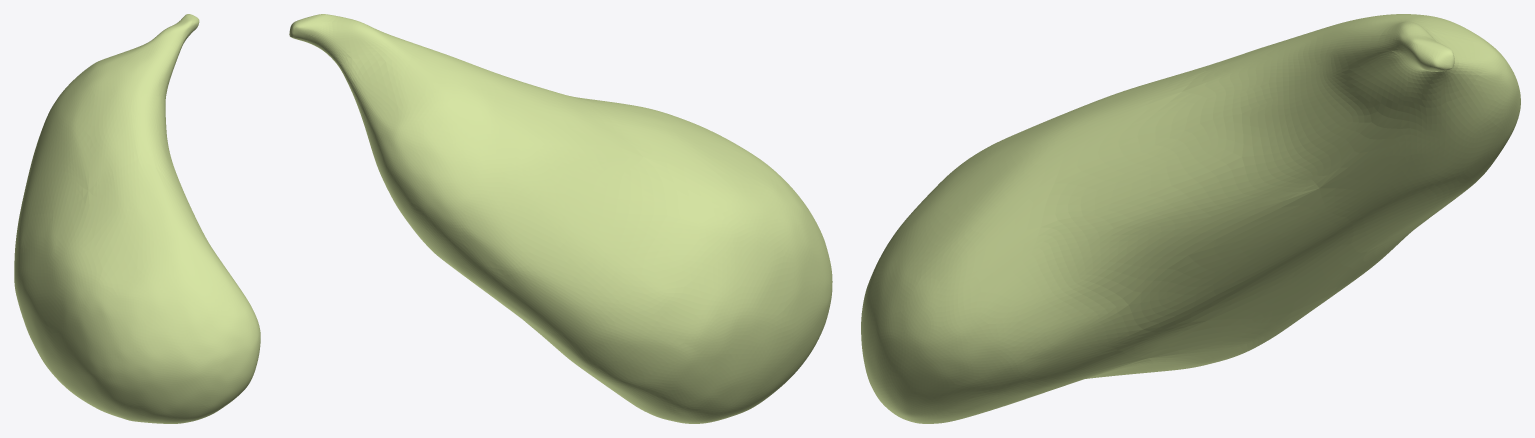
File: colecisti.glb
3 views of the same model, side by side, from view 1: azimuth 30°, elevation 25°; view 2: azimuth 150°, elevation 25°; view 3: azimuth 270°, elevation 25° (orthographic). The views are drawn at different scales.
Visible parts, largest first — view 1: gallbladder; view 2: gallbladder; view 3: gallbladder.
Part boxes in pixels (x1,y1,x2,y2): gallbladder: [14, 14, 260, 423]; gallbladder: [289, 14, 832, 423]; gallbladder: [861, 14, 1520, 423].
Bounding box in the file's own units: 36.36 × 40.35 × 48.37.
